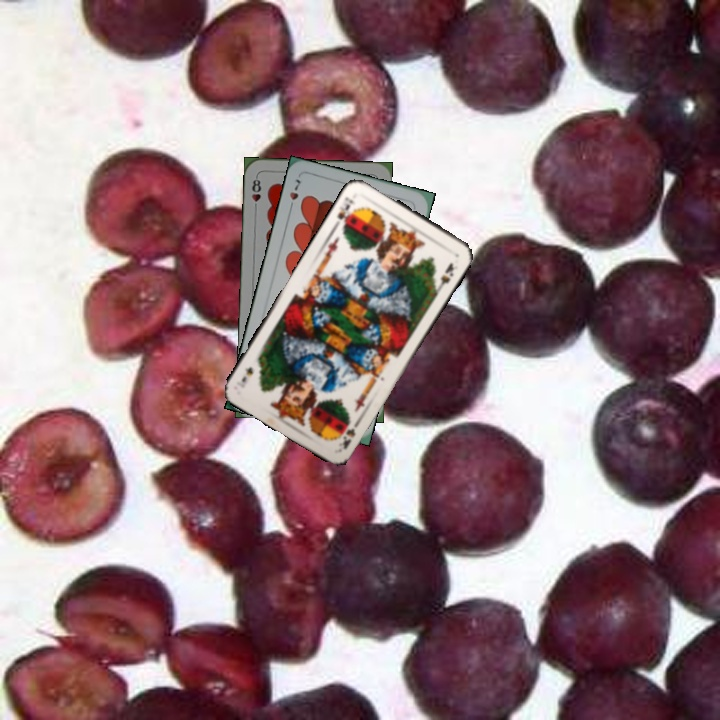H7: (285, 175, 304, 213)
H8: (248, 172, 263, 213)
SK: (333, 192, 357, 231), (339, 415, 364, 452)
